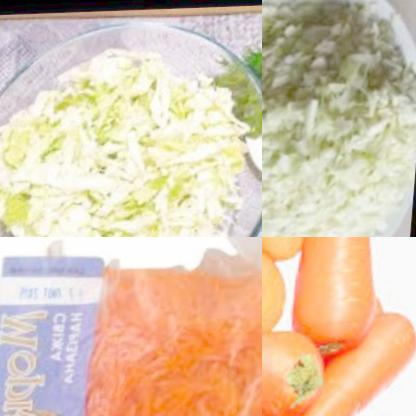cabbage: (0, 45, 262, 237), (262, 0, 416, 237)
carrot: (68, 263, 262, 416), (262, 312, 416, 416), (285, 237, 400, 365), (262, 327, 337, 416), (262, 246, 304, 345), (262, 237, 319, 273)
